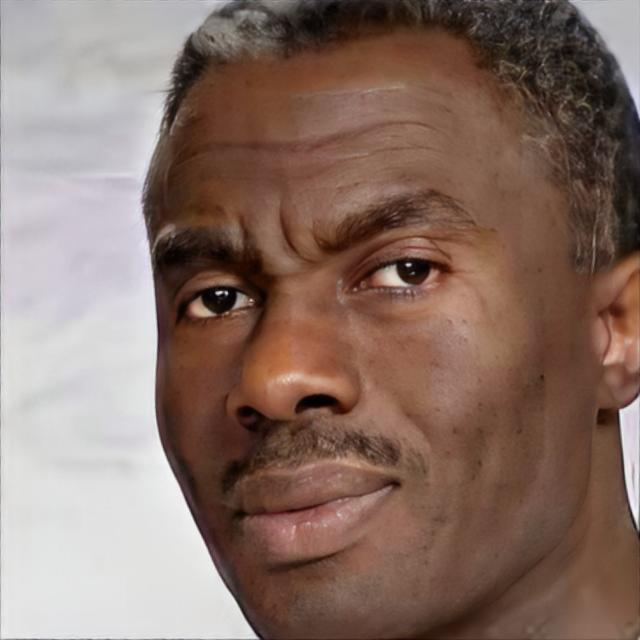disgust: (140, 0, 592, 640)
